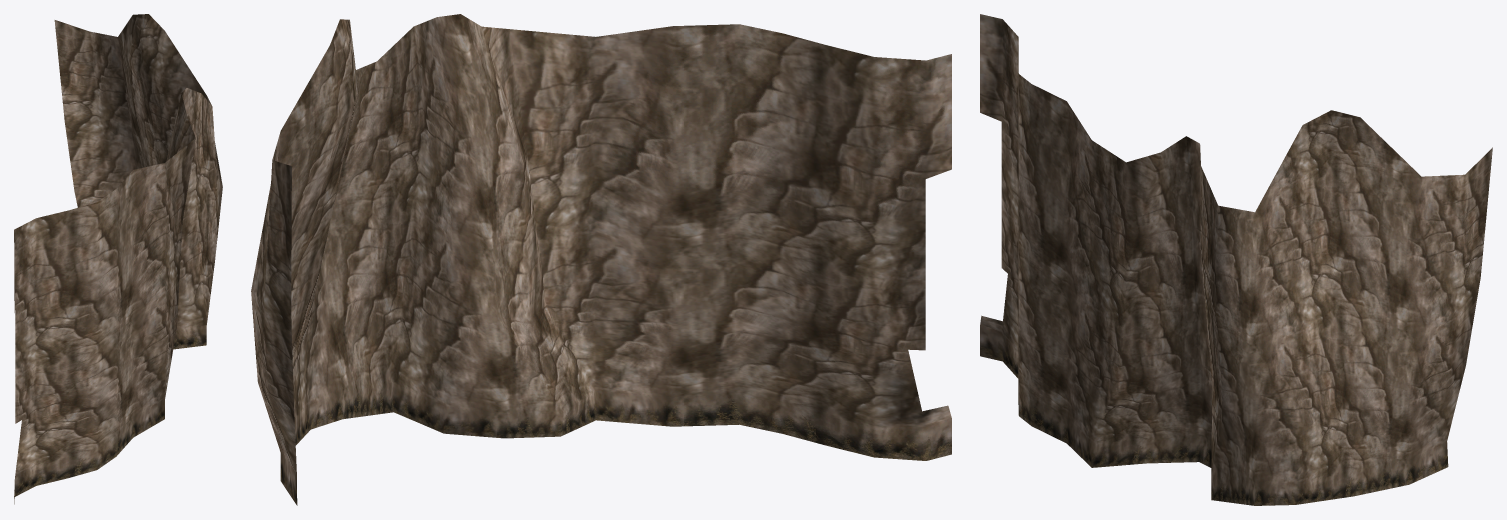
Rendered from OVERHILL_A_01_WALL_203.fbx.
3 views of the same model, side by side, from view 1: azimuth 30°, elevation 25°; view 2: azimuth 150°, elevation 25°; view 3: azimuth 270°, elevation 25° (orthographic). The views are drawn at different scales.
Parts seen in each view (by area): view 1: OVERHILL_A_01_WALL_203; view 2: OVERHILL_A_01_WALL_203; view 3: OVERHILL_A_01_WALL_203.
Boxes of the visible parts, <box> form: OVERHILL_A_01_WALL_203: <box>14,14,222,504</box>; OVERHILL_A_01_WALL_203: <box>251,14,951,505</box>; OVERHILL_A_01_WALL_203: <box>980,14,1492,505</box>.
Bounding box in the file's own units: 122751 × 121538 × 135897.
2 materials, 2 textured.
